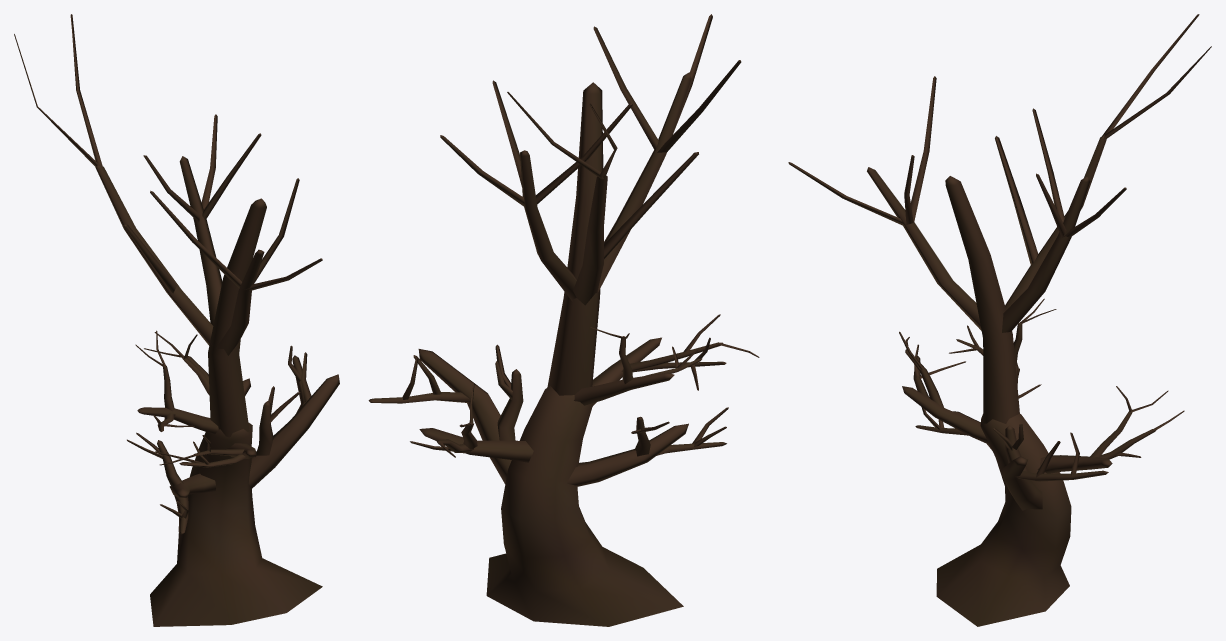
File: tree-bare-gnarled-c.glb
3 renders of one model, left to right at view 1: azimuth 30°, elevation 25°; view 2: azimuth 150°, elevation 25°; view 3: azimuth 270°, elevation 25°, orthographic. The views are drawn at different scales.
Parts seen in each view (by area): view 1: tree-bare-gnarled-c; view 2: tree-bare-gnarled-c; view 3: tree-bare-gnarled-c.
Boxes of the visible parts, <box> form: tree-bare-gnarled-c: <box>14,14,339,626</box>; tree-bare-gnarled-c: <box>368,14,759,626</box>; tree-bare-gnarled-c: <box>788,14,1211,626</box>.
Bounding box in the file's own units: 0.8097 × 1.7 × 1.26.
